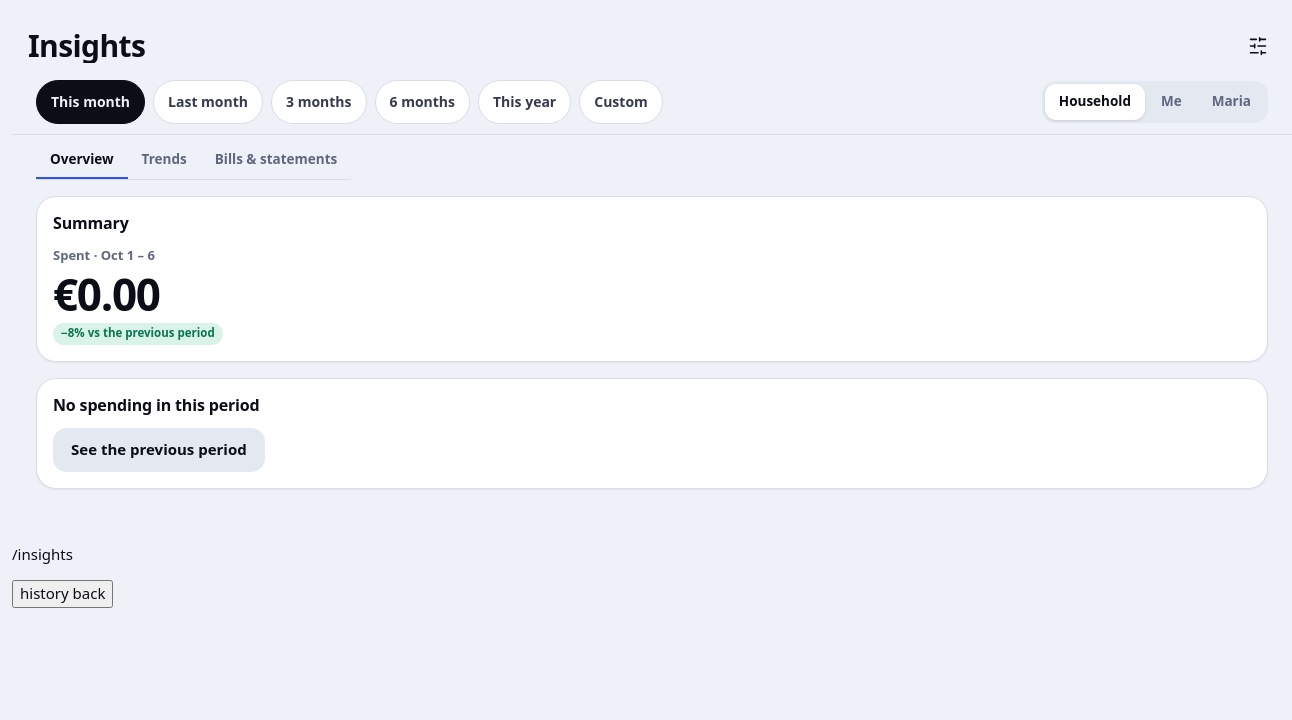
Test: the tabs › an empty period: Overview shows the empty message, the other tabs work as usual
The width and height of the screenshot is (1292, 720).
expect the heading "No spending in this period" is shown: met, box [53, 395, 260, 416]
Click the tab "Trends" at (164, 161), box [128, 143, 201, 179]
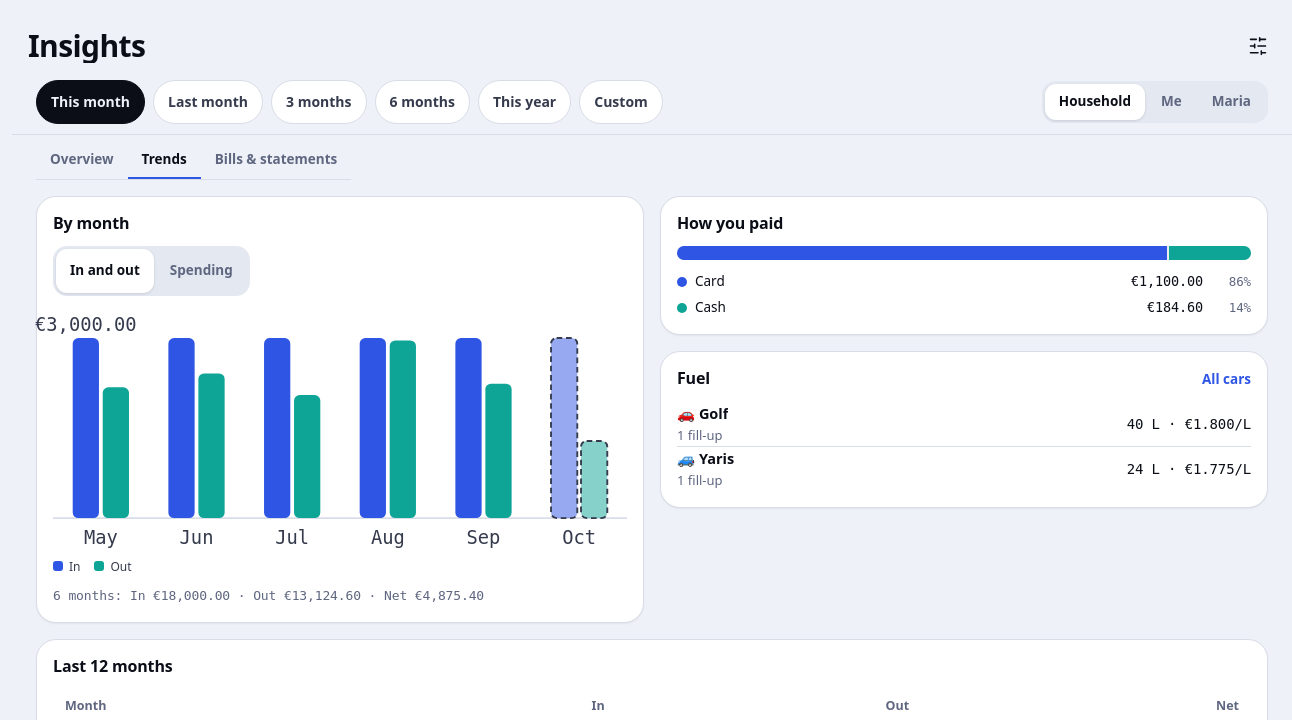
expect the element that starts with "By month" is shown: met, box [36, 196, 644, 623]
Click the tab "Bills & statements" at (276, 161), box [201, 143, 351, 179]
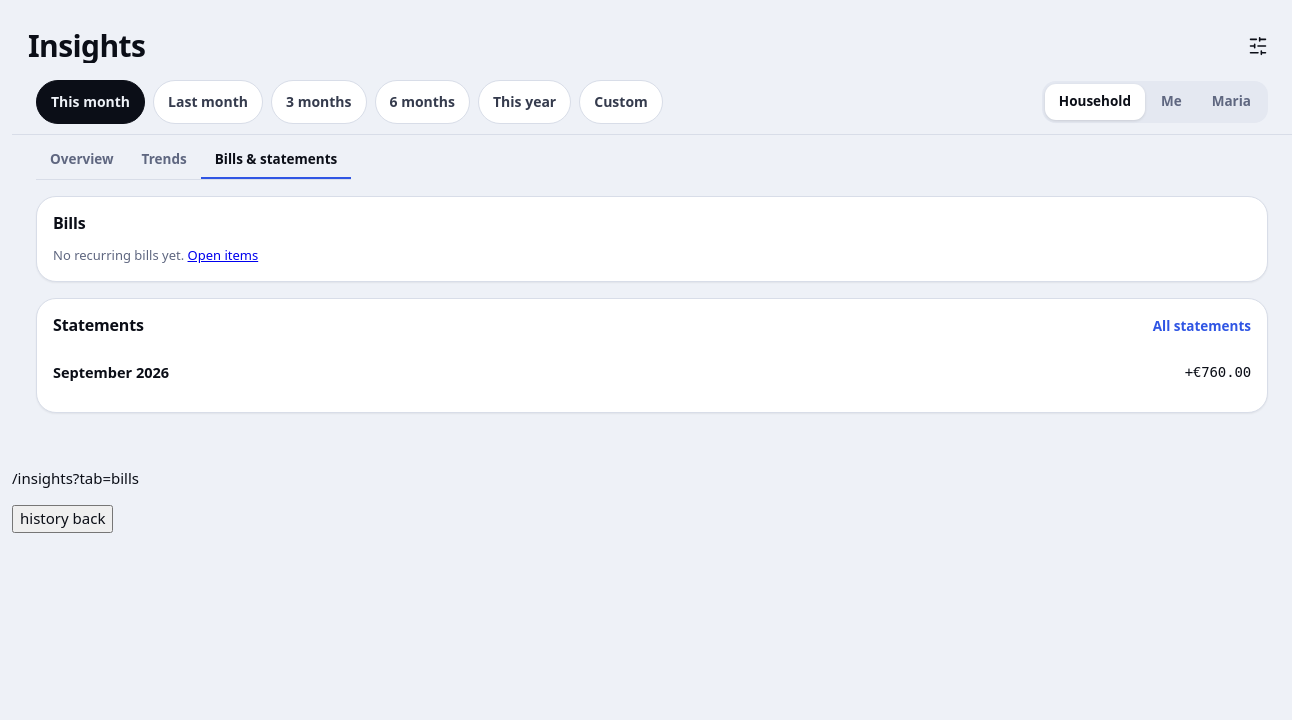
expect the element "Statements" is shown: met, box [36, 298, 1268, 413]
